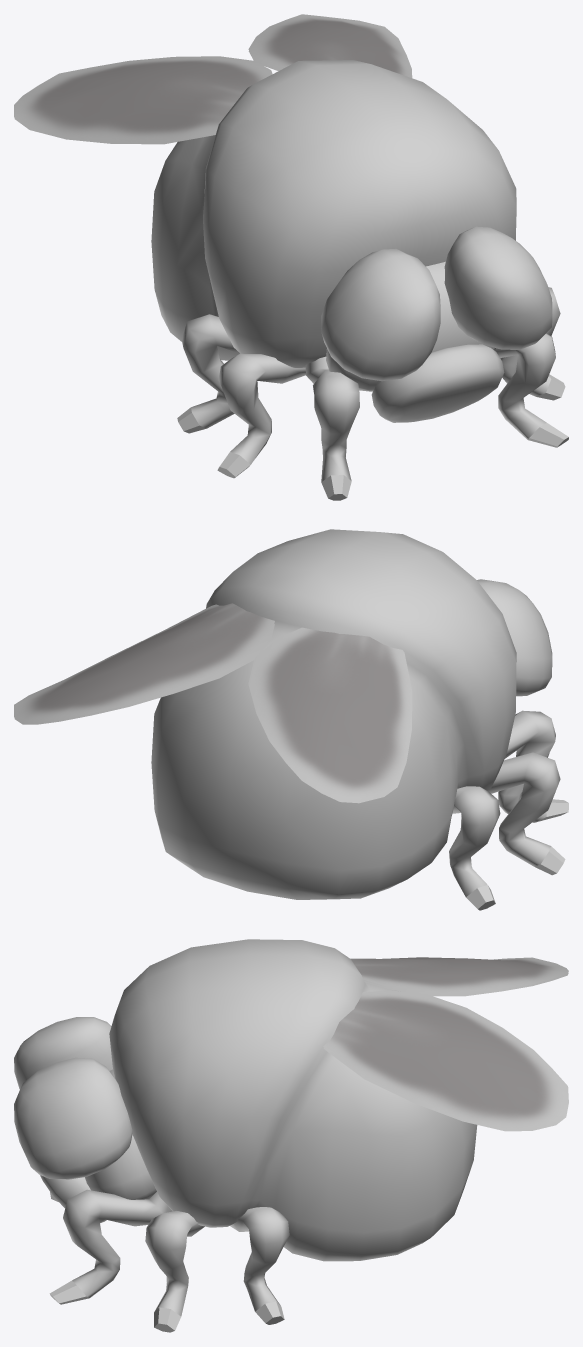
File: fly.FBX
3 renders of one model, top to bottom at view 1: azimuth 30°, elevation 25°; view 2: azimuth 150°, elevation 25°; view 3: azimuth 270°, elevation 25°, orthographic. The views are drawn at different scales.
Parts seen in each view (by area): view 1: fly; view 2: fly; view 3: fly.
Part boxes in pixels (x1,y1,x2,y2): fly: (14, 14, 568, 500); fly: (14, 529, 568, 910); fly: (14, 939, 568, 1332).
Bounding box in the file's own units: 27.8 × 22.84 × 37.93.
